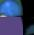slime: (0, 0, 23, 17)
